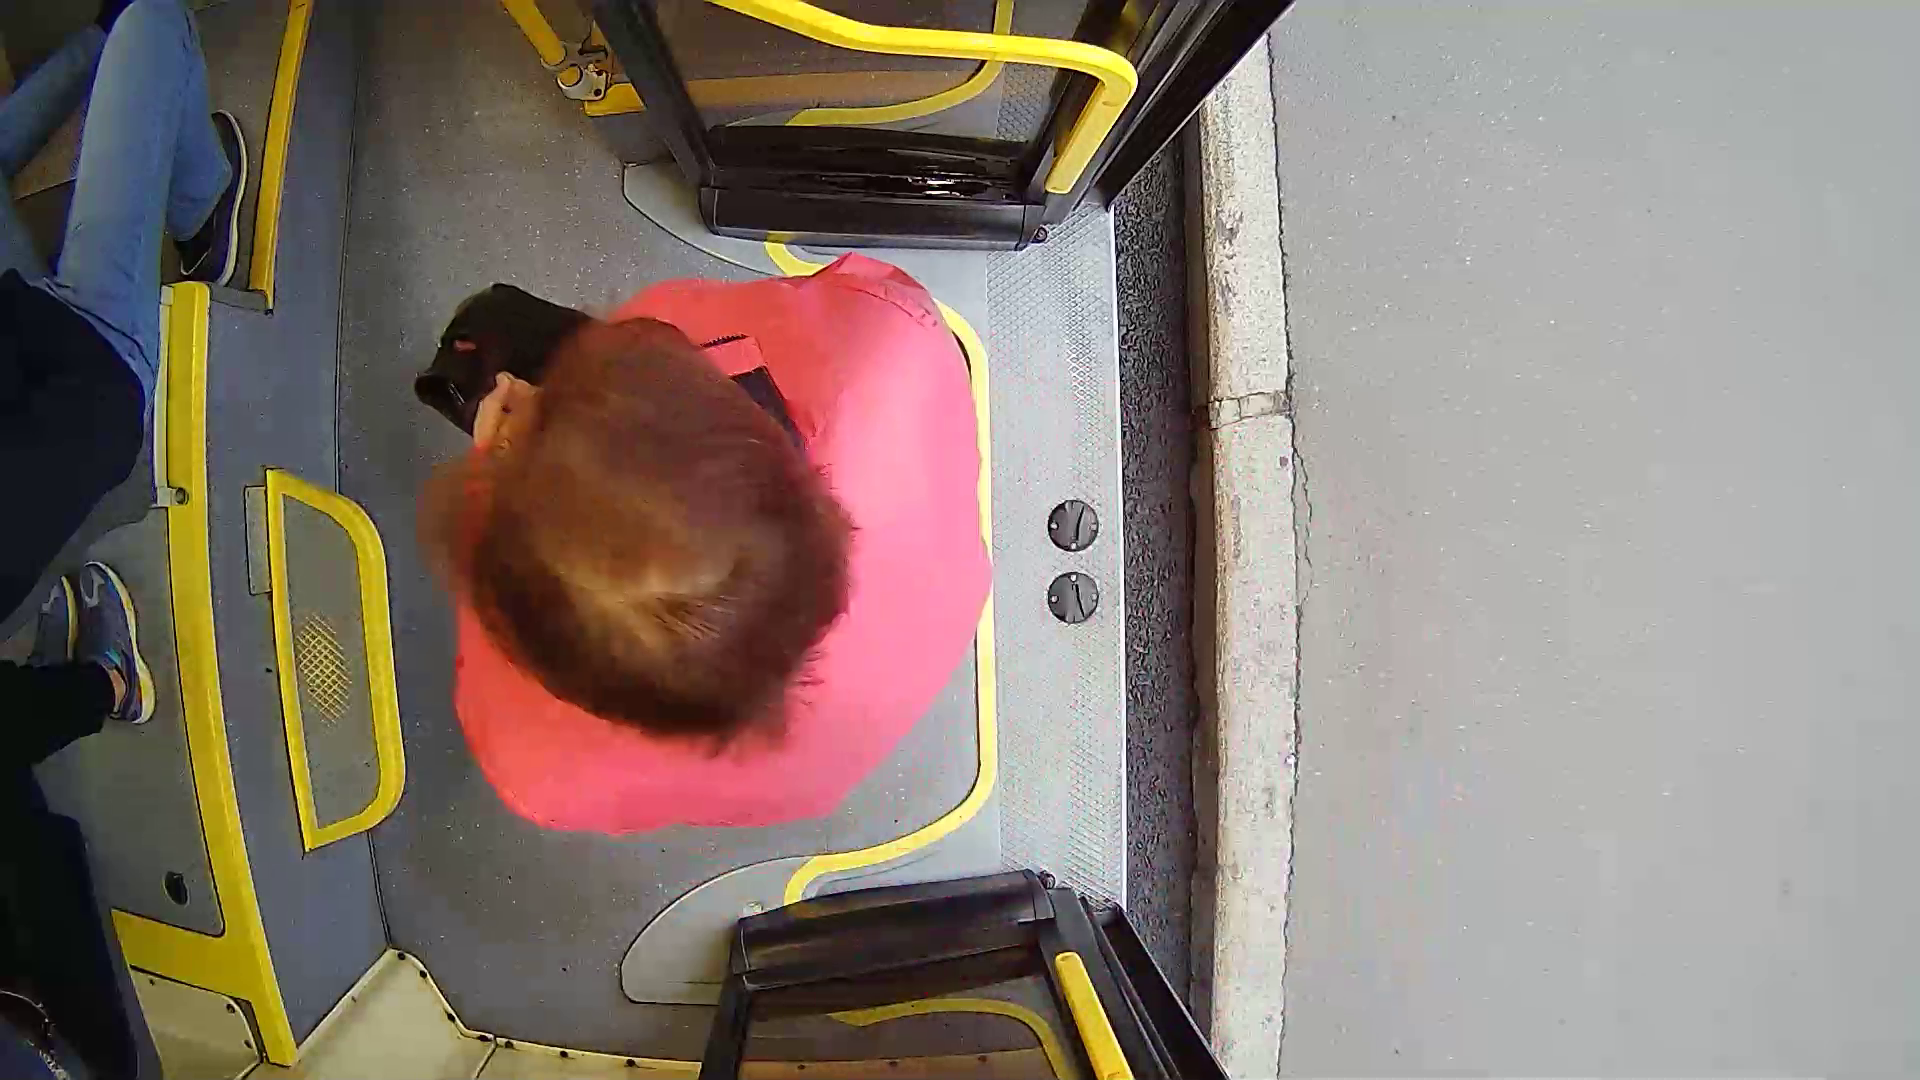person: (413, 228, 1083, 873)
